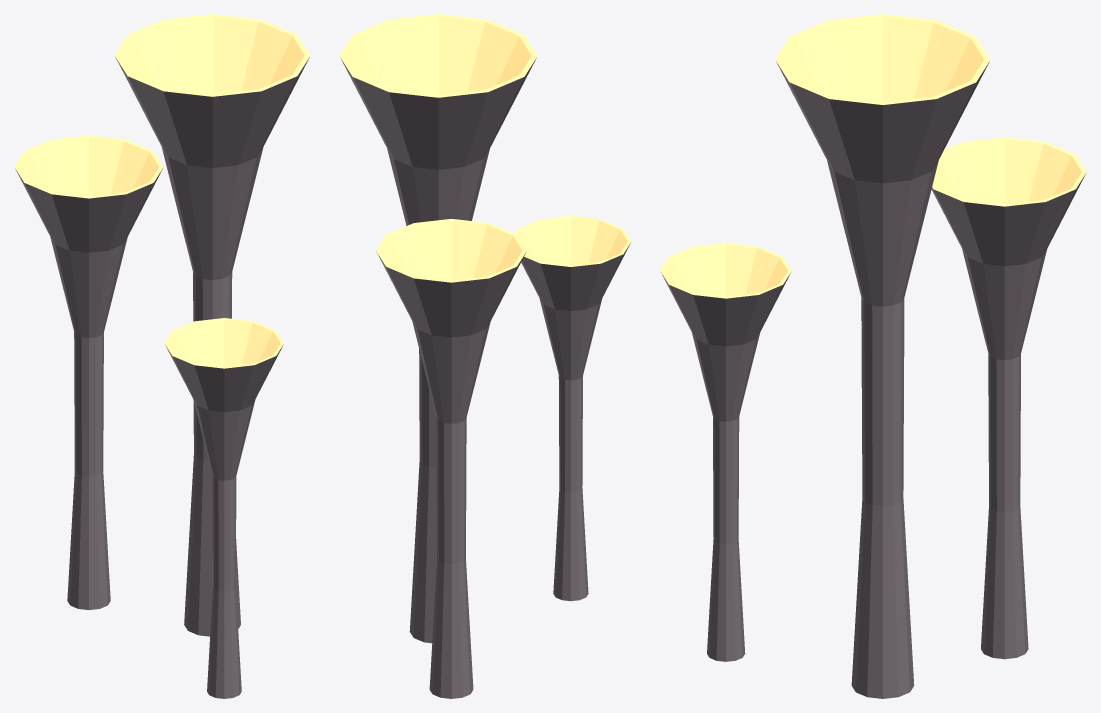
Rendered from trumpet_v02.glb.
The picture shows the model from 3 angles, left to right: view 1: azimuth 30°, elevation 25°; view 2: azimuth 150°, elevation 25°; view 3: azimuth 270°, elevation 25°; orthographic projection. The views are drawn at different scales.
Visible parts, largest first — view 1: mushroom_trumpet_flesh_nocol, mushroom_trumpet_glow_nocol; view 2: mushroom_trumpet_flesh_nocol, mushroom_trumpet_glow_nocol; view 3: mushroom_trumpet_flesh_nocol, mushroom_trumpet_glow_nocol.
Boxes of the visible parts, box(x1,y1,x2,y2) form: mushroom_trumpet_flesh_nocol: box(15, 57, 309, 698); mushroom_trumpet_glow_nocol: box(14, 14, 310, 368); mushroom_trumpet_flesh_nocol: box(340, 57, 630, 698); mushroom_trumpet_glow_nocol: box(339, 14, 631, 282); mushroom_trumpet_flesh_nocol: box(661, 61, 1085, 698); mushroom_trumpet_glow_nocol: box(660, 14, 1086, 298).
Size of the model in its own units: 0.9193 by 2.3 by 1.42.
